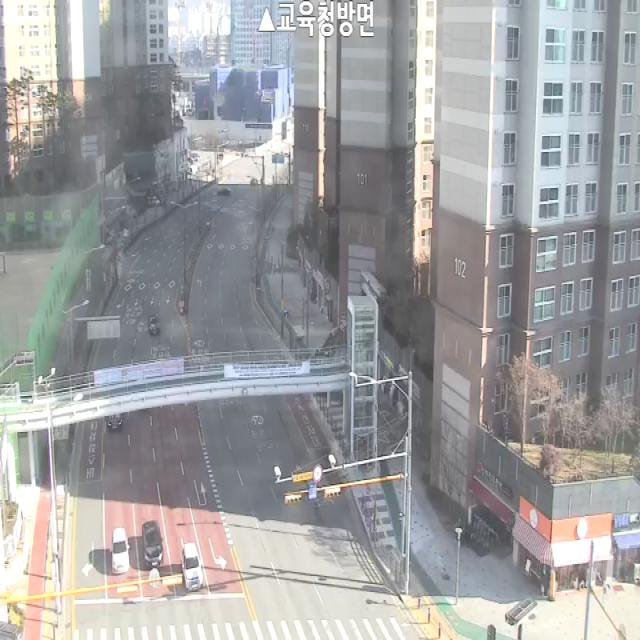Car: (182, 543, 202, 591), (143, 521, 162, 568), (112, 528, 130, 574), (106, 414, 123, 431), (149, 316, 159, 335), (217, 188, 231, 196)
